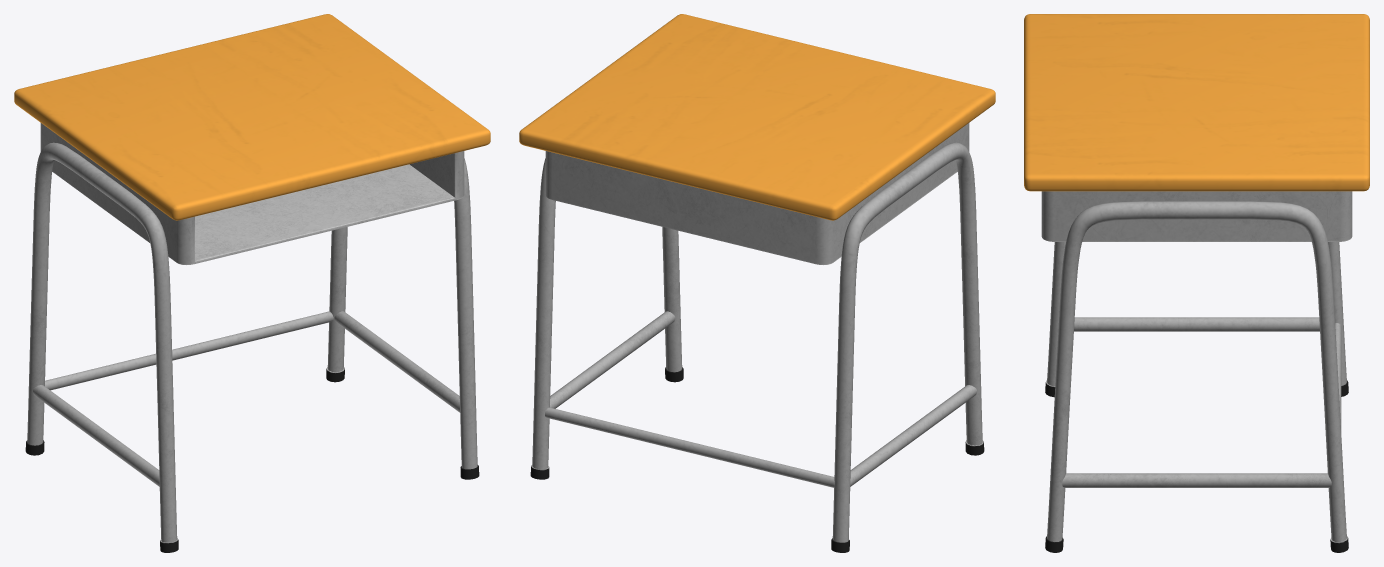
File: ClassRoomTable.fbx
3 views of the same model, side by side, from view 1: azimuth 30°, elevation 25°; view 2: azimuth 150°, elevation 25°; view 3: azimuth 270°, elevation 25° (orthographic). The views are drawn at different scales.
Parts seen in each view (by area): view 1: ClassRoom_Table; view 2: ClassRoom_Table; view 3: ClassRoom_Table.
Boxes of the visible parts, bbox=[...] form: ClassRoom_Table: bbox=[14, 14, 490, 552]; ClassRoom_Table: bbox=[519, 14, 995, 552]; ClassRoom_Table: bbox=[1024, 14, 1369, 552].
Bounding box in the file's own units: 187 × 199 × 166.
